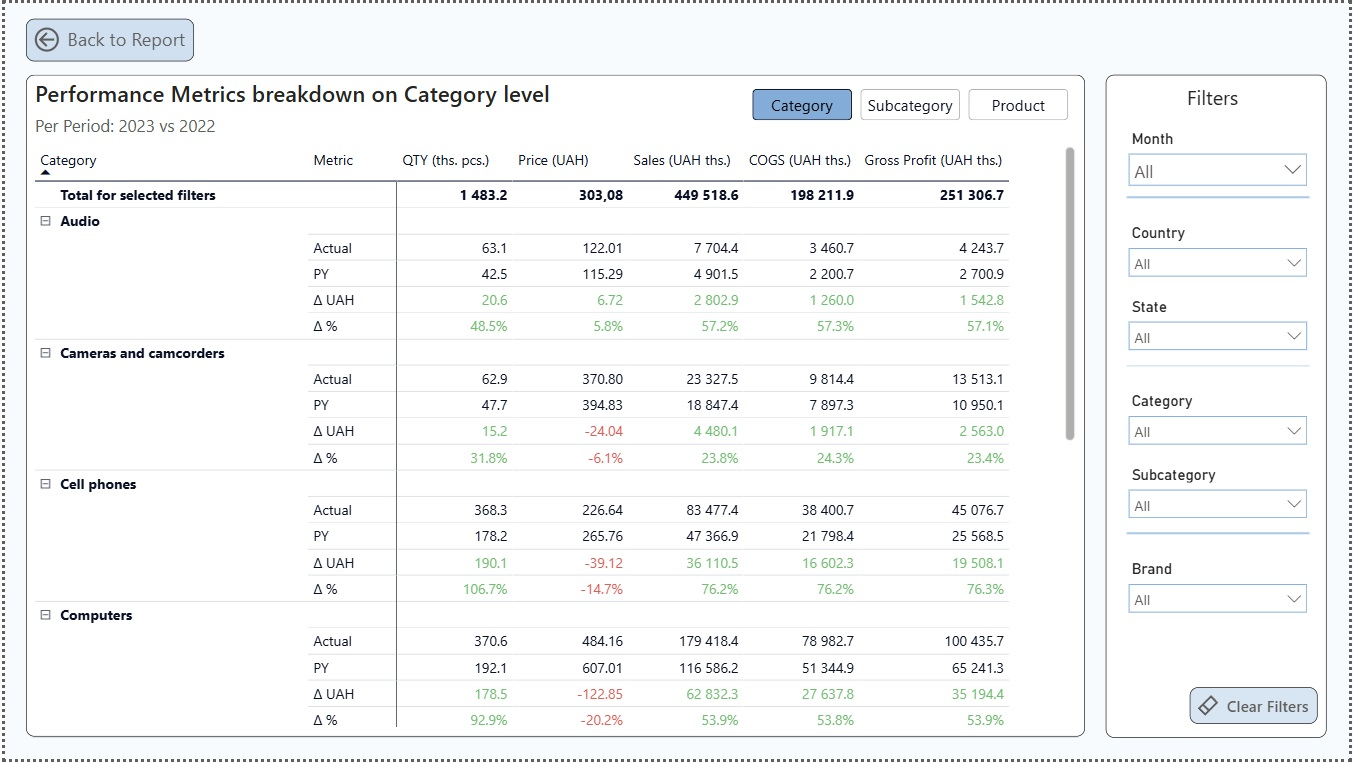

Layout of this report page (visuals, bound fields, positions):
{"tool":"powerbi","page":{"name":"GP Metrics","canvas":[1280,720],"ordinal":1},"visuals":[{"type":"actionButton","box":[20,14.2,160,40.8],"z":0},{"type":"pivotTable","fields":{"Columns":["ColumnLabelTable.MetricName"],"Rows":["DimProduct.Category","RowLabelTable.MetricName"],"Values":["DAX.DynamicMeasure","DAX.dynamicMeasureprev","select2","select","select1"]},"box":[20.3,68.5,1008.4,630.4],"z":0,"group":"g2"},{"type":"shape","box":[1048.8,68.9,210,631.7],"z":0,"group":"g1"},{"type":"group","id":"g1","title":"Filter Pane","box":[1048.8,68.9,210,631.7],"z":1000},{"type":"advancedSlicerVisual","fields":{"Values":["Parameter.Parameter"]},"box":[707.8,76.8,311.4,40],"z":1000,"group":"g2"},{"type":"shape","box":[1068,341,174,10],"z":1000,"group":"g1"},{"type":"group","id":"g2","title":"Table","box":[20.3,68.5,1008.4,630.4],"z":2000},{"type":"shape","box":[1068,181,174,10],"z":2000,"group":"g1"},{"type":"shape","box":[1068,501,174,10],"z":3000,"group":"g1"},{"type":"actionButton","box":[1129.1,652.4,121.7,35],"z":4000,"group":"g1"},{"type":"slicer","fields":{"Values":["DimProduct.Brand"]},"box":[1060,526,190,70.9],"z":5000,"group":"g1"},{"type":"slicer","title":"Gross Profit by Country","fields":{"Values":["DimStore.CountryName"]},"box":[1060.4,206,190,70],"z":6000,"group":"g1"},{"type":"slicer","fields":{"Values":["Calendar.Month"]},"box":[1060.4,116.2,190,70],"z":7000,"group":"g1"},{"type":"slicer","fields":{"Values":["DimProduct.Category"]},"box":[1060,366,190,70],"z":8000,"group":"g1"},{"type":"slicer","fields":{"Values":["DimProduct.Subcategory"]},"box":[1060,436,190,70],"z":9000,"group":"g1"},{"type":"slicer","fields":{"Values":["DimStore.State"]},"box":[1060,276,190,70],"z":10000,"group":"g1"},{"type":"textbox","box":[1103.3,71.7,93.3,41.7],"z":11000,"group":"g1"},{"type":"image","title":"Close","box":[1199.8,78.6,50.3,34.6],"z":12000,"group":"g1"}]}

Visuals, with their boxes in screenshot pixels (x1, y1, x2, y2), scaled from the page's 1280x720 canvas onto the 1353x762 screenshot:
actionButton: crop(21, 15, 190, 58)
pivotTable - ColumnLabelTable.MetricName x DimProduct.Category: crop(21, 72, 1087, 740)
shape: crop(1109, 73, 1331, 741)
"Filter Pane" group: crop(1109, 73, 1331, 741)
advancedSlicerVisual - Parameter.Parameter: crop(748, 81, 1077, 124)
shape: crop(1129, 361, 1313, 371)
"Table" group: crop(21, 72, 1087, 740)
shape: crop(1129, 192, 1313, 202)
shape: crop(1129, 530, 1313, 541)
actionButton: crop(1193, 690, 1322, 727)
slicer - DimProduct.Brand: crop(1120, 557, 1321, 632)
"Gross Profit by Country" slicer: crop(1121, 218, 1322, 292)
slicer - Calendar.Month: crop(1121, 123, 1322, 197)
slicer - DimProduct.Category: crop(1120, 387, 1321, 461)
slicer - DimProduct.Subcategory: crop(1120, 461, 1321, 536)
slicer - DimStore.State: crop(1120, 292, 1321, 366)
textbox: crop(1166, 76, 1265, 120)
"Close" image: crop(1268, 83, 1321, 120)
